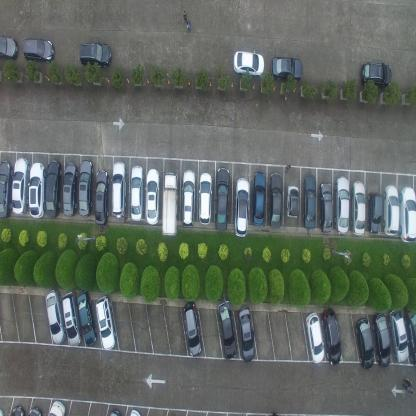car: (95, 294, 117, 350), (44, 289, 66, 345), (161, 169, 179, 237), (321, 308, 342, 366), (62, 290, 82, 347), (11, 156, 30, 216), (77, 290, 97, 346), (354, 316, 375, 369), (389, 307, 409, 362), (372, 312, 391, 369), (218, 299, 236, 359), (183, 300, 202, 356), (305, 311, 325, 364), (44, 158, 62, 216), (270, 54, 304, 84), (234, 176, 250, 239), (215, 166, 230, 233), (78, 40, 112, 69), (28, 160, 45, 218), (233, 47, 264, 78), (78, 157, 94, 217), (334, 174, 350, 232), (400, 185, 416, 243), (21, 36, 55, 63), (94, 169, 110, 226), (62, 161, 78, 218), (238, 304, 254, 360), (111, 161, 126, 219), (362, 59, 392, 88), (0, 159, 14, 220), (181, 169, 195, 229), (129, 165, 143, 223), (145, 168, 159, 226), (384, 183, 399, 236), (269, 170, 282, 230), (253, 170, 266, 226), (303, 174, 316, 229), (352, 180, 365, 235), (319, 180, 332, 233), (199, 172, 212, 224), (368, 190, 382, 235), (405, 305, 415, 368), (286, 183, 300, 220), (0, 34, 18, 62), (48, 398, 68, 416), (11, 402, 26, 416), (28, 405, 43, 415)
